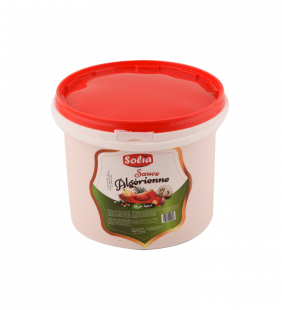SOLIA: (46, 55, 235, 255)
